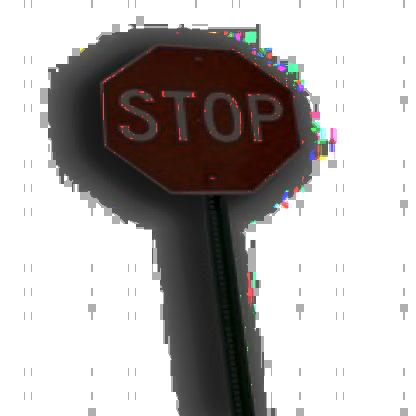Stop Sign: (95, 37, 306, 199)
